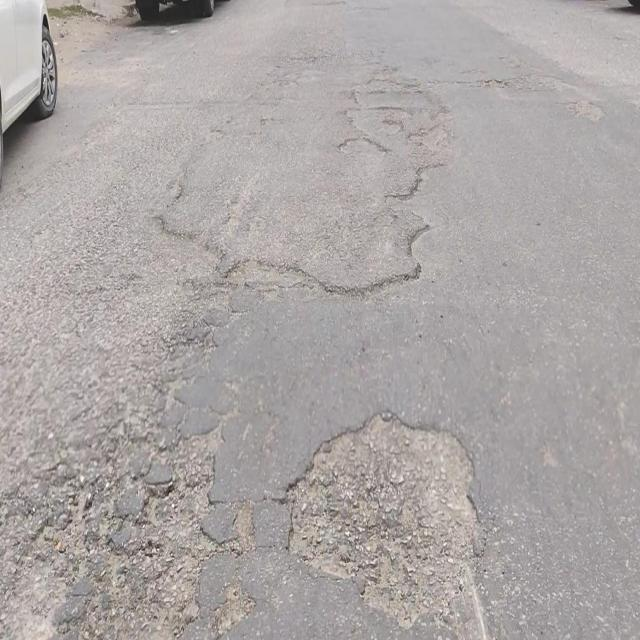Potholes: (284, 401, 484, 631)
